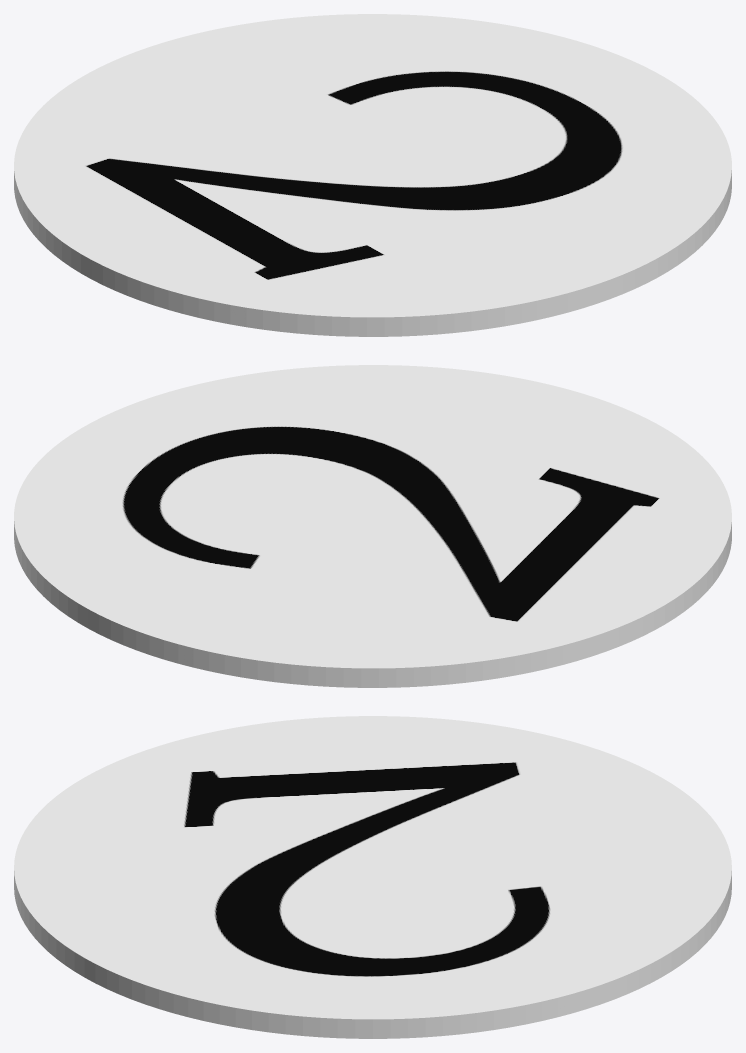
3 views of the same model, one above another, from view 1: azimuth 30°, elevation 25°; view 2: azimuth 150°, elevation 25°; view 3: azimuth 270°, elevation 25° (orthographic).
Visible parts, largest first — view 1: Cylinder; view 2: Cylinder; view 3: Cylinder.
Boxes of the visible parts, <box> form: Cylinder: <box>14,14,731,336</box>; Cylinder: <box>14,365,731,687</box>; Cylinder: <box>14,716,731,1038</box>.
Size of the model in its own units: 100 by 3 by 100.
Materials: 1 (1 with a texture image).
